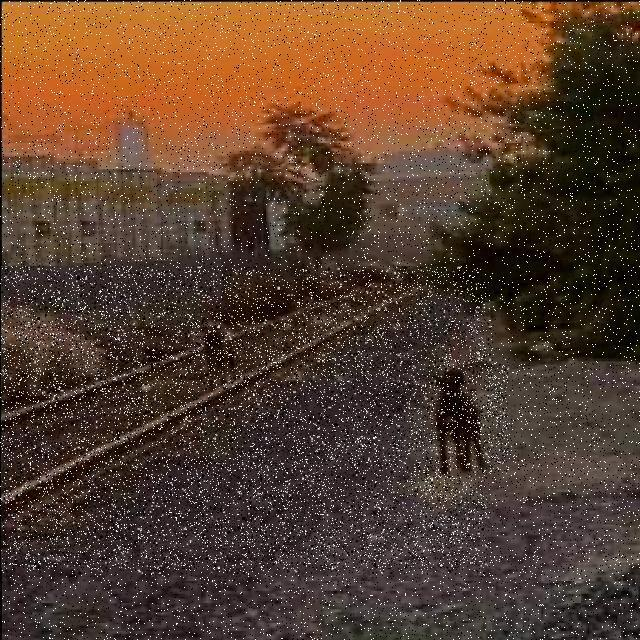danger: (420, 363, 508, 474), (177, 306, 246, 402)
rail: (1, 267, 487, 571)
